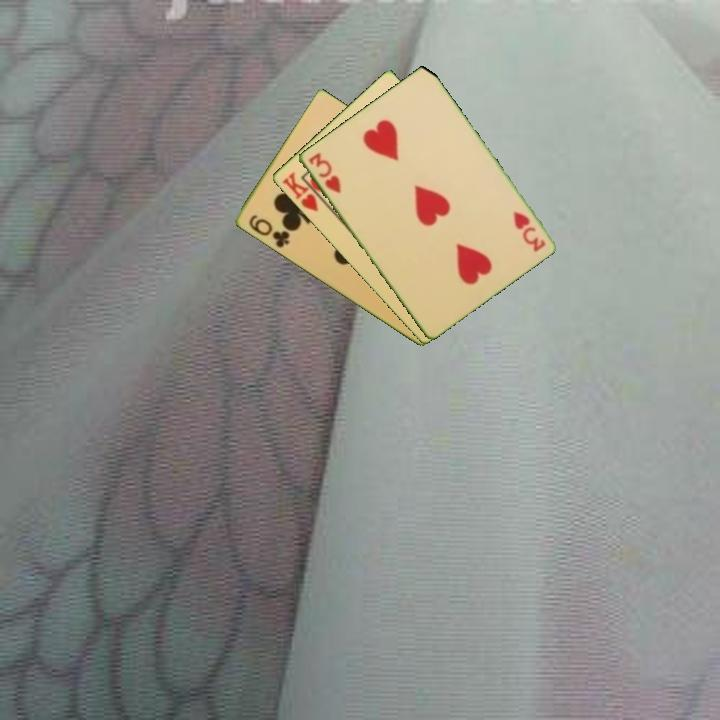3h: (304, 149, 344, 196), (509, 207, 548, 255)
6c: (245, 211, 292, 251)
Kh: (278, 168, 330, 214)
